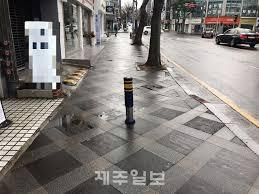Animal: (111, 70, 137, 134)
